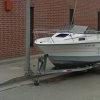Boat: (31, 24, 100, 70)
